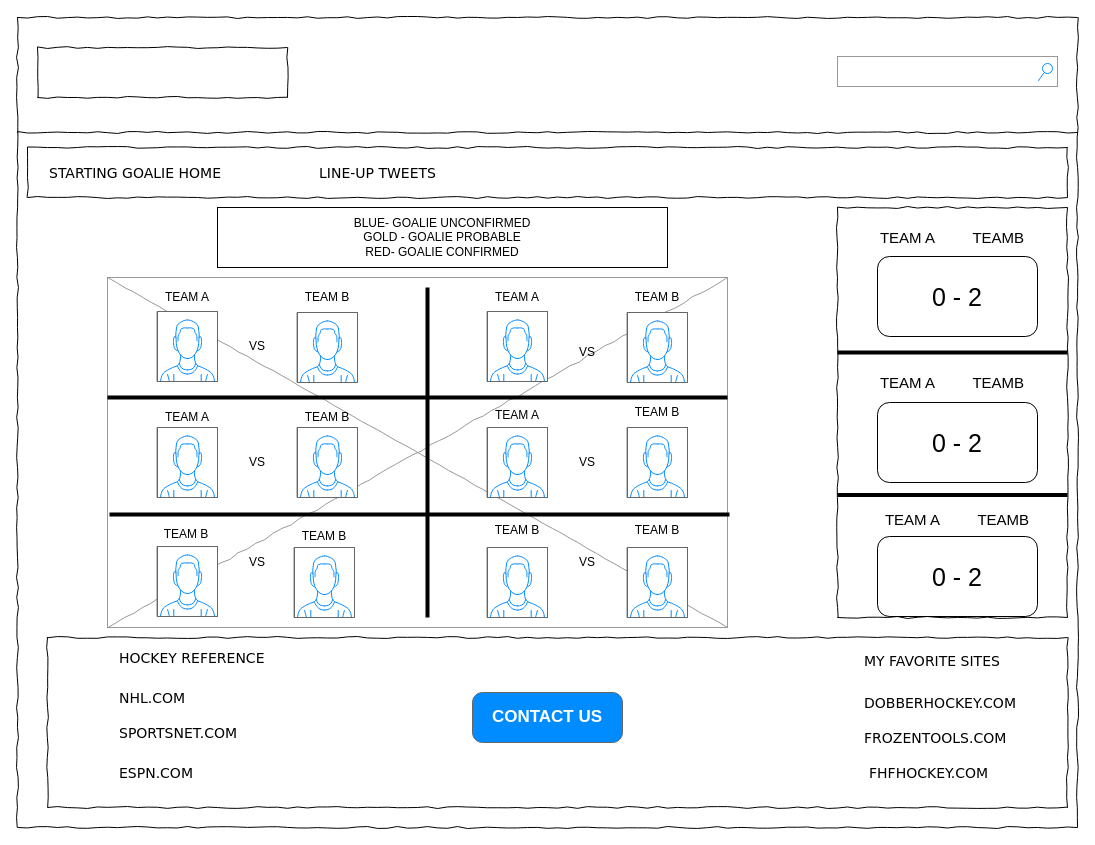
This 1095x845 diagram has some shape labels left out. The shapes that lost their labels are listed below. From the top down, each one's centre as x and y in pixels, then its label:
point (162, 72): DAILY LINE-UP
point (947, 71): Search
